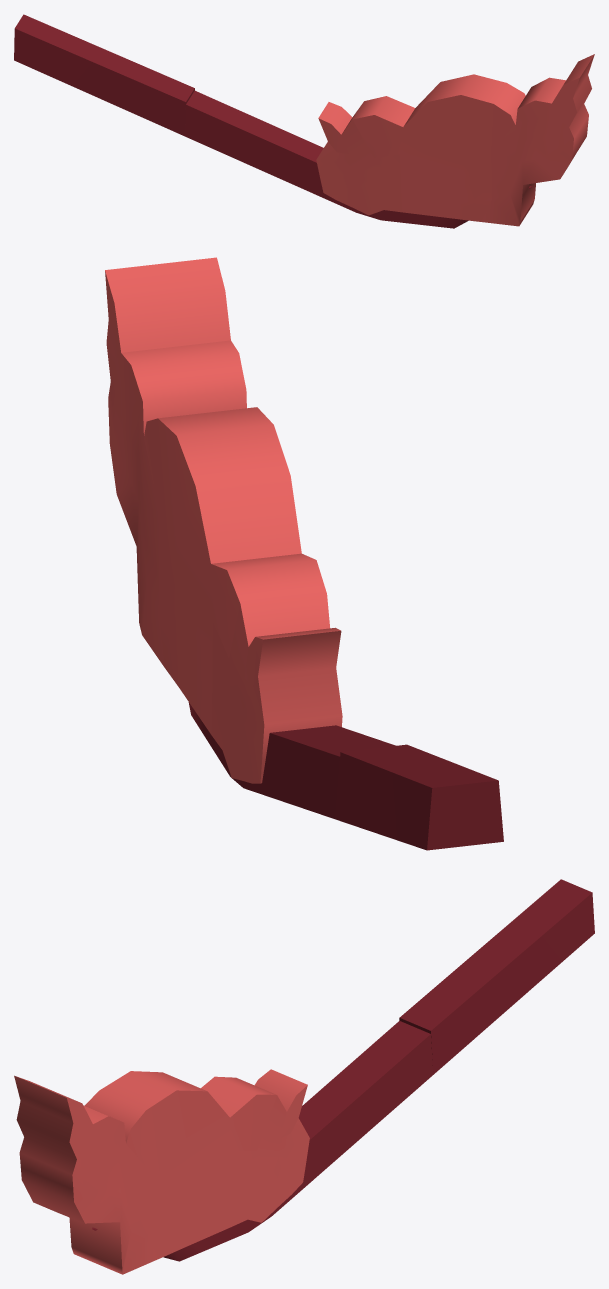
The model's file is BRoofTopCornerTrim_B.fbx.
3 renders of one model, top to bottom at view 1: azimuth 30°, elevation 25°; view 2: azimuth 150°, elevation 25°; view 3: azimuth 270°, elevation 25°, orthographic. The views are drawn at different scales.
Parts seen in each view (by area): view 1: BRoofTopCornerTrim_B; view 2: BRoofTopCornerTrim_B; view 3: BRoofTopCornerTrim_B.
Part boxes in pixels (left/top/right/bottom): BRoofTopCornerTrim_B: left=14, top=14, right=594, bottom=228; BRoofTopCornerTrim_B: left=105, top=257, right=503, bottom=850; BRoofTopCornerTrim_B: left=14, top=879, right=594, bottom=1274.
Bounding box in the file's own units: 479 × 199 × 479.
